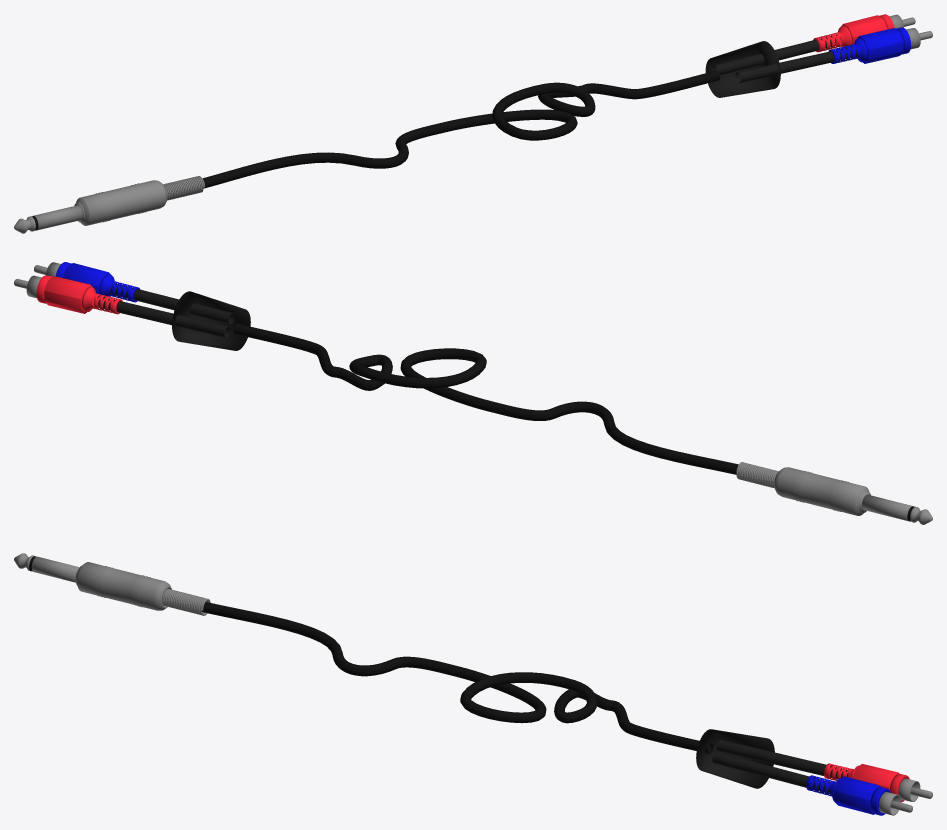
The model's file is Aux_cable_plugged.fbx.
3 views of the same model, one above another, from view 1: azimuth 30°, elevation 25°; view 2: azimuth 150°, elevation 25°; view 3: azimuth 330°, elevation 25° (orthographic). The views are drawn at different scales.
Parts seen in each view (by area): view 1: BezierCurve.005; view 2: BezierCurve.005; view 3: BezierCurve.005.
Part boxes in pixels (<box>): BezierCurve.005: <box>14,14,932,233</box>; BezierCurve.005: <box>14,262,932,524</box>; BezierCurve.005: <box>14,553,932,815</box>.
Size of the model in its own units: 39.84 by 1.92 by 4.1.
